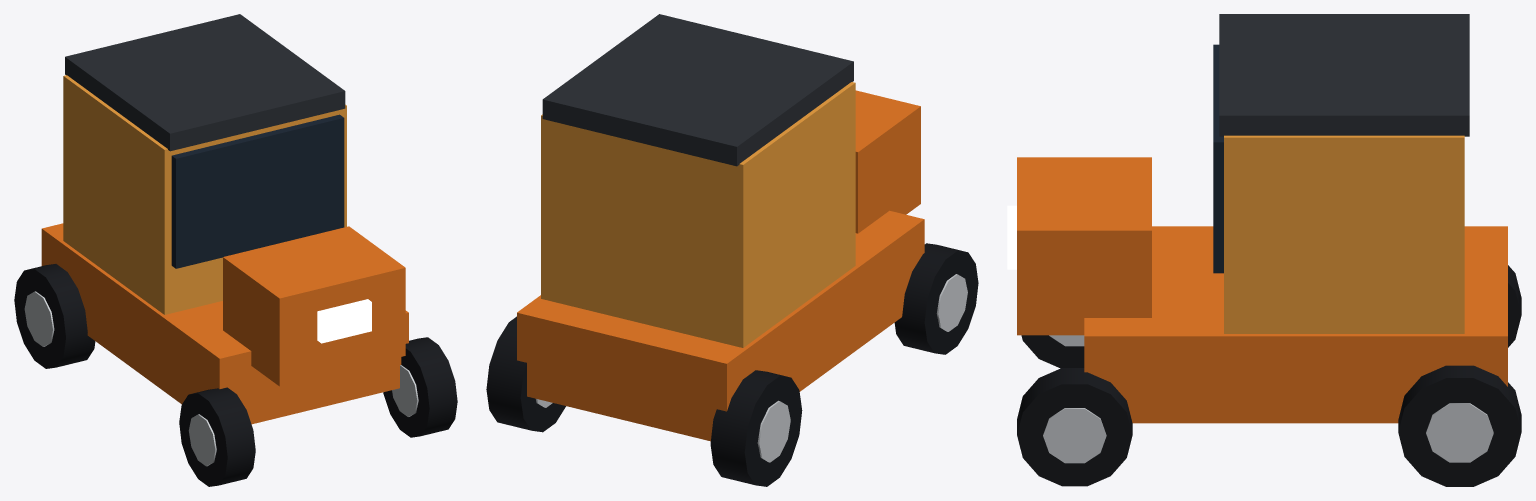
Rendered from bajaj.glb.
The picture shows the model from 3 angles, left to right: view 1: azimuth 30°, elevation 25°; view 2: azimuth 150°, elevation 25°; view 3: azimuth 270°, elevation 25°; orthographic projection. The views are drawn at different scales.
Parts seen in each view (by area): view 1: object 4, object 2, object 5, object 3, object 1, wheel_rl, wheel_fl, wheel_fr, object 6; view 2: object 2, object 1, object 4, wheel_rl, object 5, wheel_fl, wheel_rr; view 3: object 2, object 1, object 4, object 5, wheel_rr, wheel_fr, object 3, wheel_fl, wheel_rl, object 6.
Part boxes in pixels (<box>): object 4: <box>65,14,345,151</box>; object 2: <box>63,75,346,314</box>; object 5: <box>223,226,405,386</box>; object 3: <box>171,114,344,268</box>; object 1: <box>41,223,408,424</box>; wheel_rl: <box>14,264,95,368</box>; wheel_fl: <box>179,387,255,486</box>; wheel_fr: <box>383,337,457,437</box>; object 6: <box>317,299,371,343</box>; object 2: <box>541,82,855,347</box>; object 1: <box>517,210,924,441</box>; object 4: <box>542,14,853,166</box>; wheel_rl: <box>710,370,802,486</box>; object 5: <box>855,90,920,233</box>; wheel_fl: <box>894,243,978,354</box>; wheel_rr: <box>486,316,565,432</box>; object 2: <box>1224,135,1464,333</box>; object 1: <box>1084,226,1507,423</box>; object 4: <box>1219,14,1469,136</box>; object 5: <box>1017,157,1151,335</box>; wheel_rr: <box>1398,365,1521,486</box>; wheel_fr: <box>1017,368,1132,486</box>; object 3: <box>1213,44,1223,273</box>; wheel_fl: <box>1021,335,1084,368</box>; wheel_rl: <box>1508,265,1521,347</box>; object 6: <box>1007,205,1016,269</box>.
Size of the model in its own units: 1.68 by 2.03 by 2.67.
